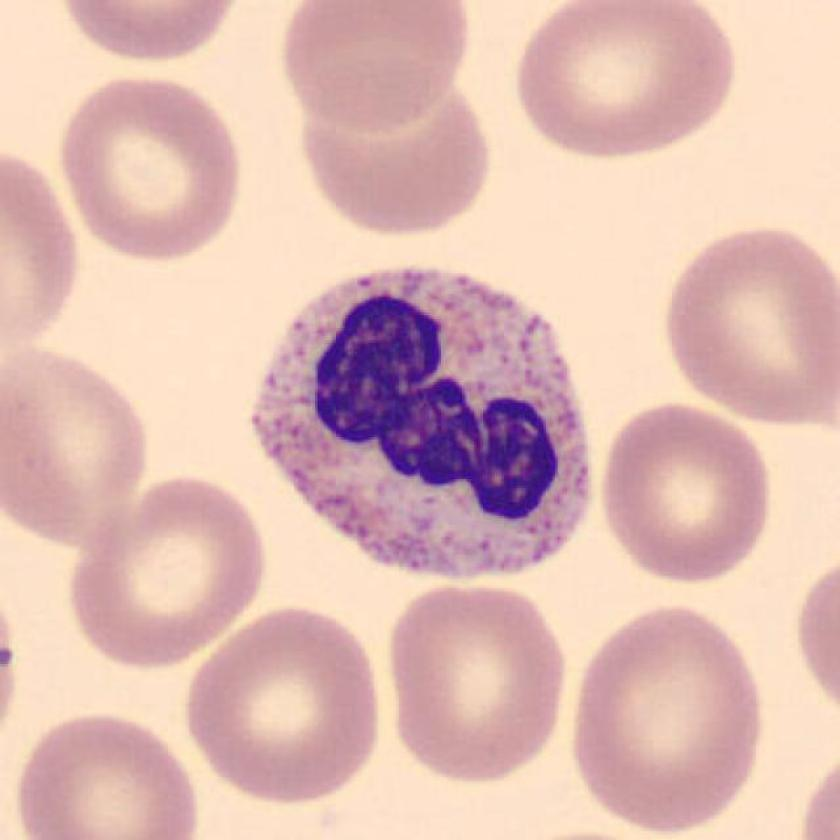neutrophil: (254, 268, 593, 581)
